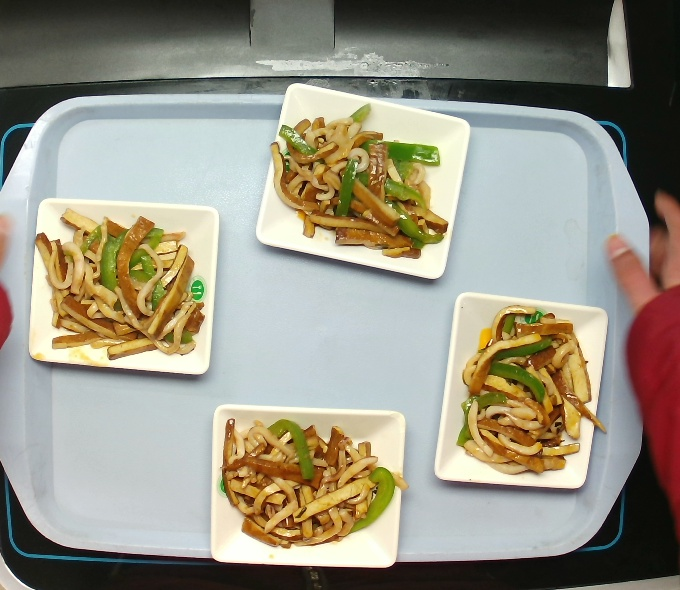wcq-XiangGanYouYu: (263, 95, 455, 262), (35, 204, 203, 365), (216, 414, 397, 550), (454, 309, 598, 475)
